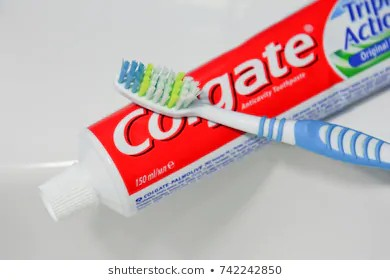toothbrush: (108, 47, 300, 150)
